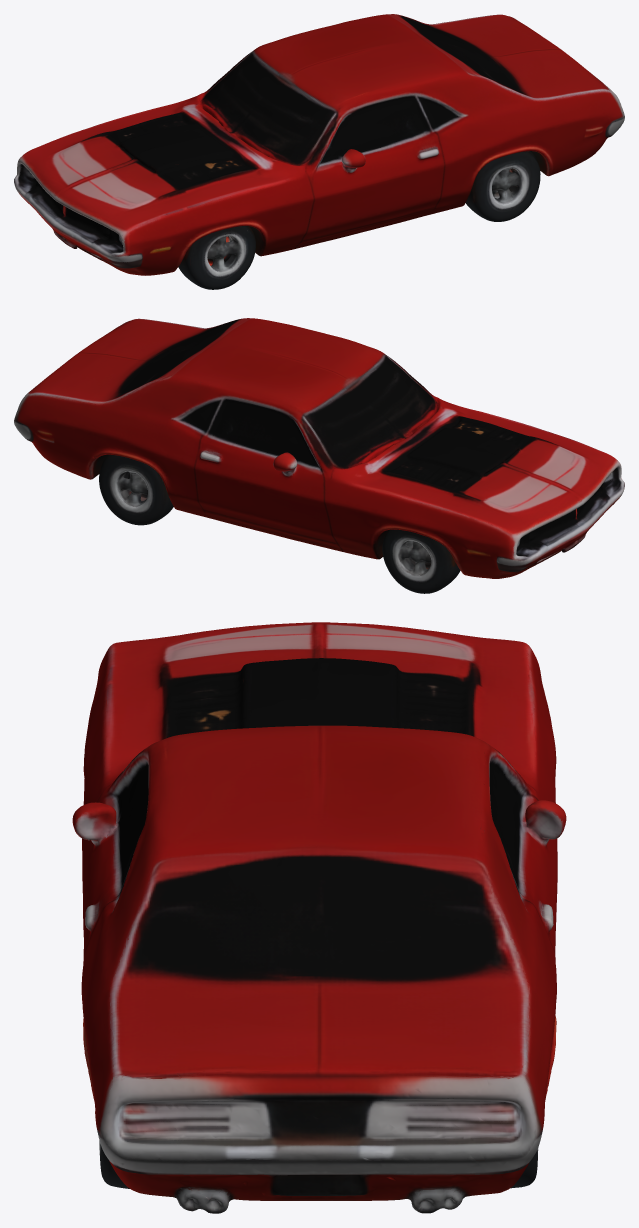
Rendered from dodge.glb.
3 renders of one model, top to bottom at view 1: azimuth 30°, elevation 25°; view 2: azimuth 150°, elevation 25°; view 3: azimuth 270°, elevation 25°, orthographic. The views are drawn at different scales.
Visible parts, largest first — view 1: world; view 2: world; view 3: world.
Boxes of the visible parts, x1,y1,x2,y2 form: world: [14, 14, 624, 289]; world: [14, 318, 624, 593]; world: [72, 622, 566, 1213].
Bounding box in the file's own units: 1 × 0.2849 × 0.4093.
1 material, 1 textured.
